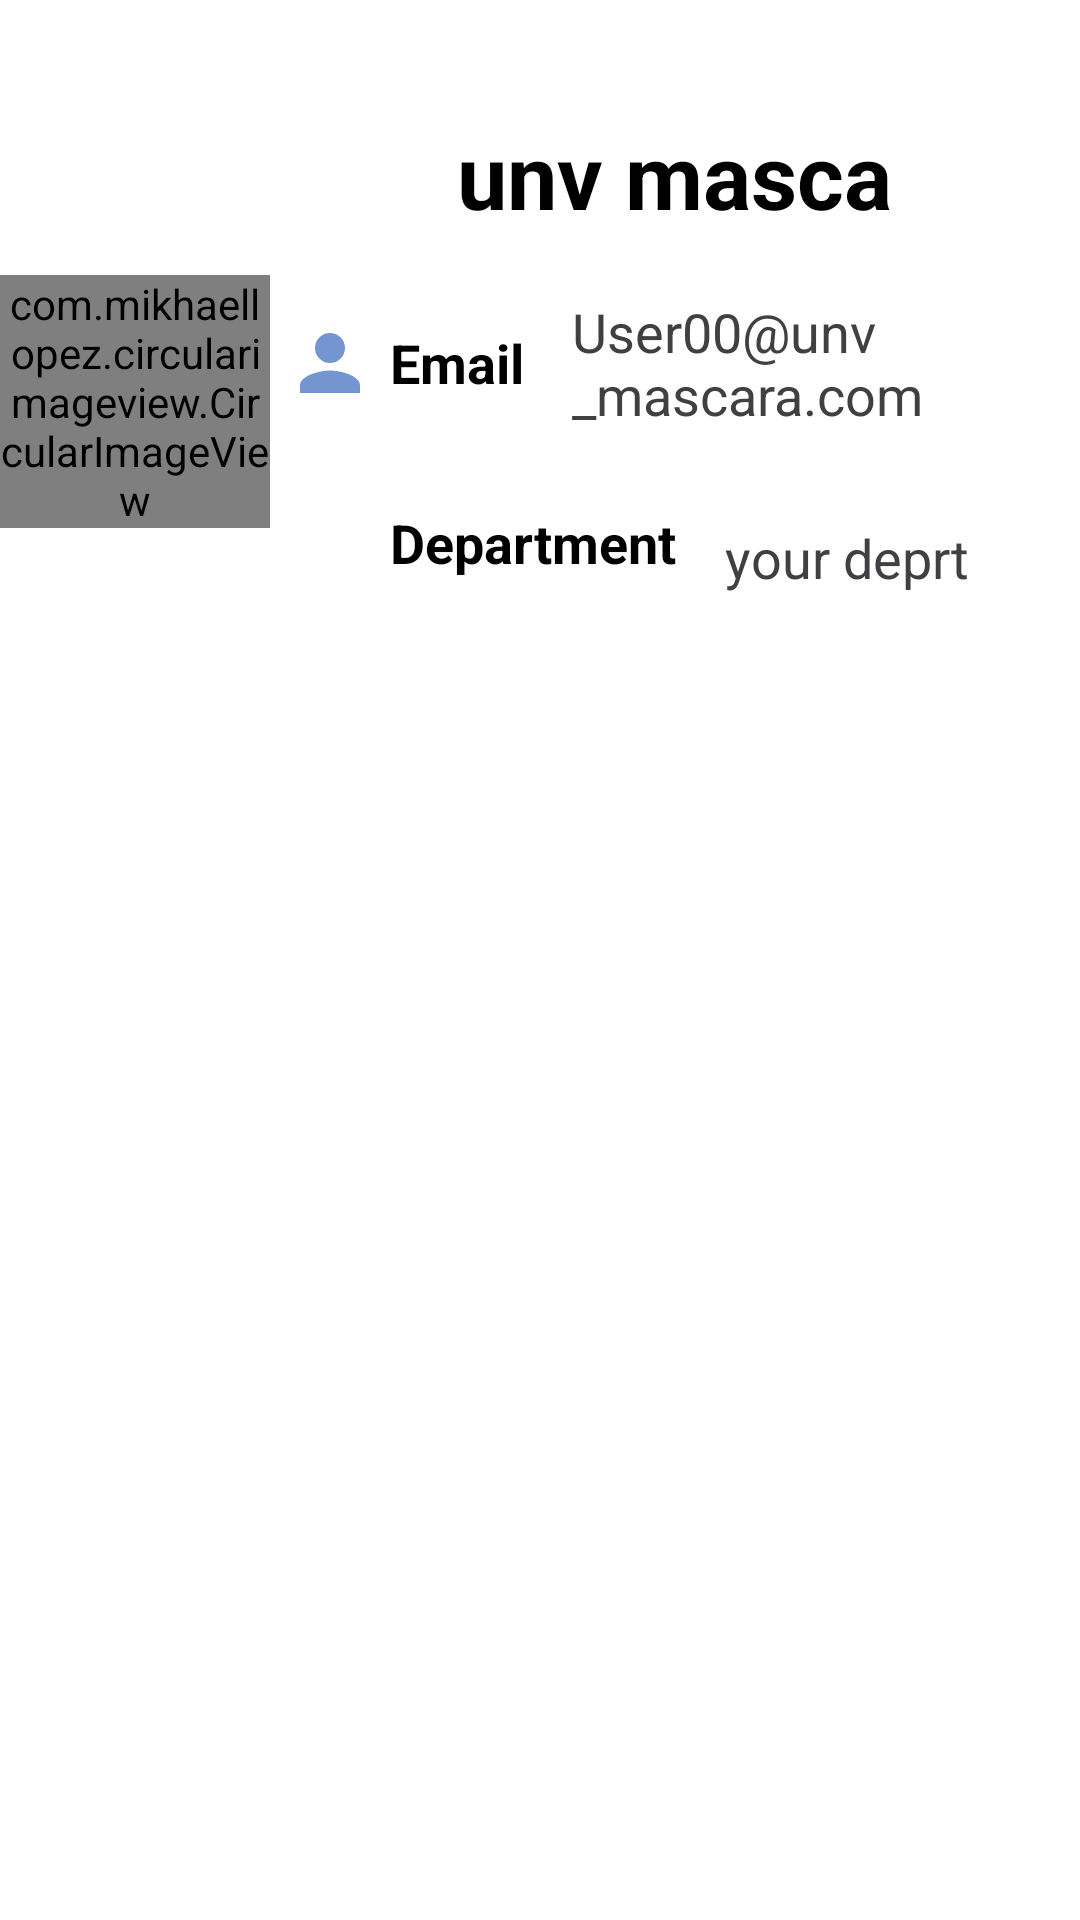

Named icons in this screenshot (1080 × 1920) and their centers, (x=x, y=y):
person: (x=330, y=363)
